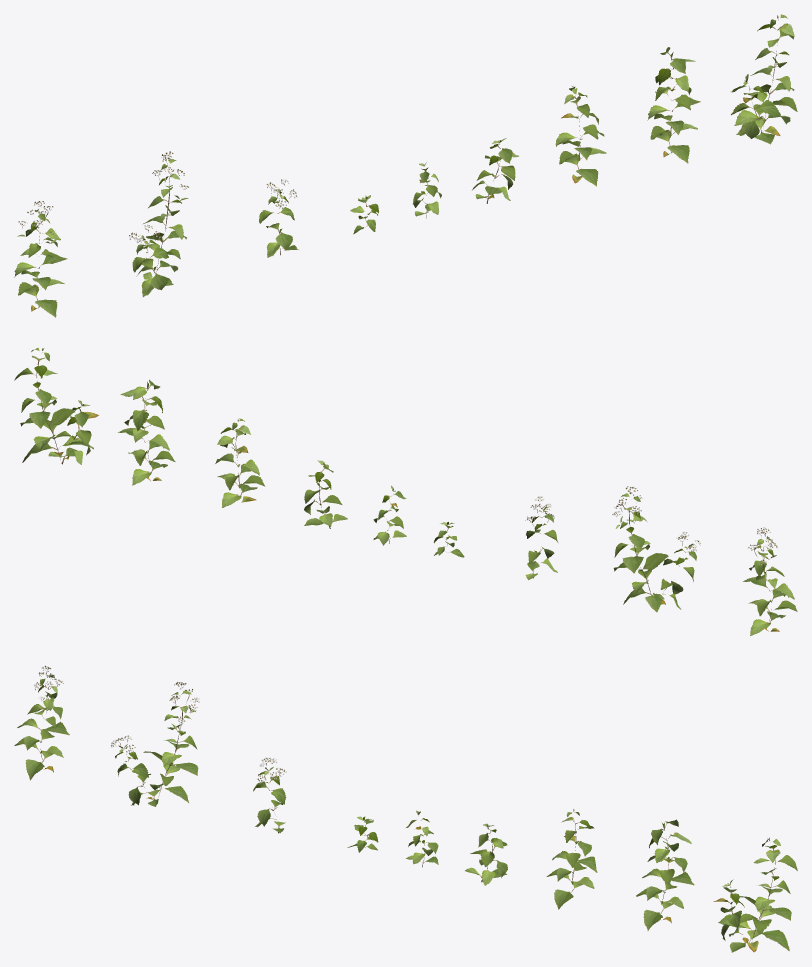
The model's file is shrub_01_LOD1.fbx.
3 views of the same model, one above another, from view 1: azimuth 30°, elevation 25°; view 2: azimuth 150°, elevation 25°; view 3: azimuth 330°, elevation 25° (orthographic). The views are drawn at different scales.
Parts seen in each view (by area): view 1: shrub_01.001; view 2: shrub_01.001; view 3: shrub_01.001.
Part boxes in pixels (x1,y1,x2,y2): shrub_01.001: (14,14,797,317); shrub_01.001: (14,348,797,635); shrub_01.001: (14,665,797,952).
Bounding box in the file's own units: 2.59 × 0.3953 × 0.2192.
1 material, 1 textured.
